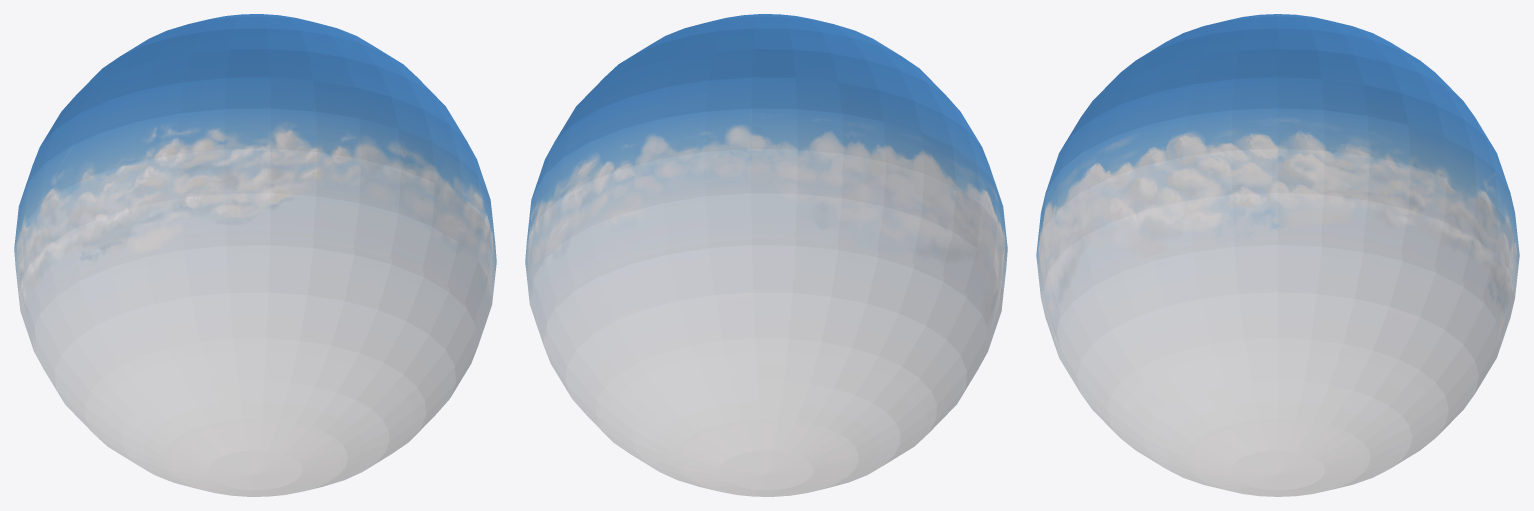
3 views of the same model, side by side, from view 1: azimuth 30°, elevation 25°; view 2: azimuth 150°, elevation 25°; view 3: azimuth 270°, elevation 25° (orthographic).
Visible parts, largest first — view 1: Skybox, Skybox.001; view 2: Skybox, Skybox.001; view 3: Skybox, Skybox.001.
Boxes of the visible parts, <box> form: Skybox: <box>14,14,496,496</box>; Skybox.001: <box>16,108,494,343</box>; Skybox: <box>525,14,1007,496</box>; Skybox.001: <box>527,108,1005,343</box>; Skybox: <box>1036,14,1519,496</box>; Skybox.001: <box>1038,108,1517,348</box>.
Size of the model in its own units: 6.45 by 6.45 by 6.45.
2 materials, 2 textured.
